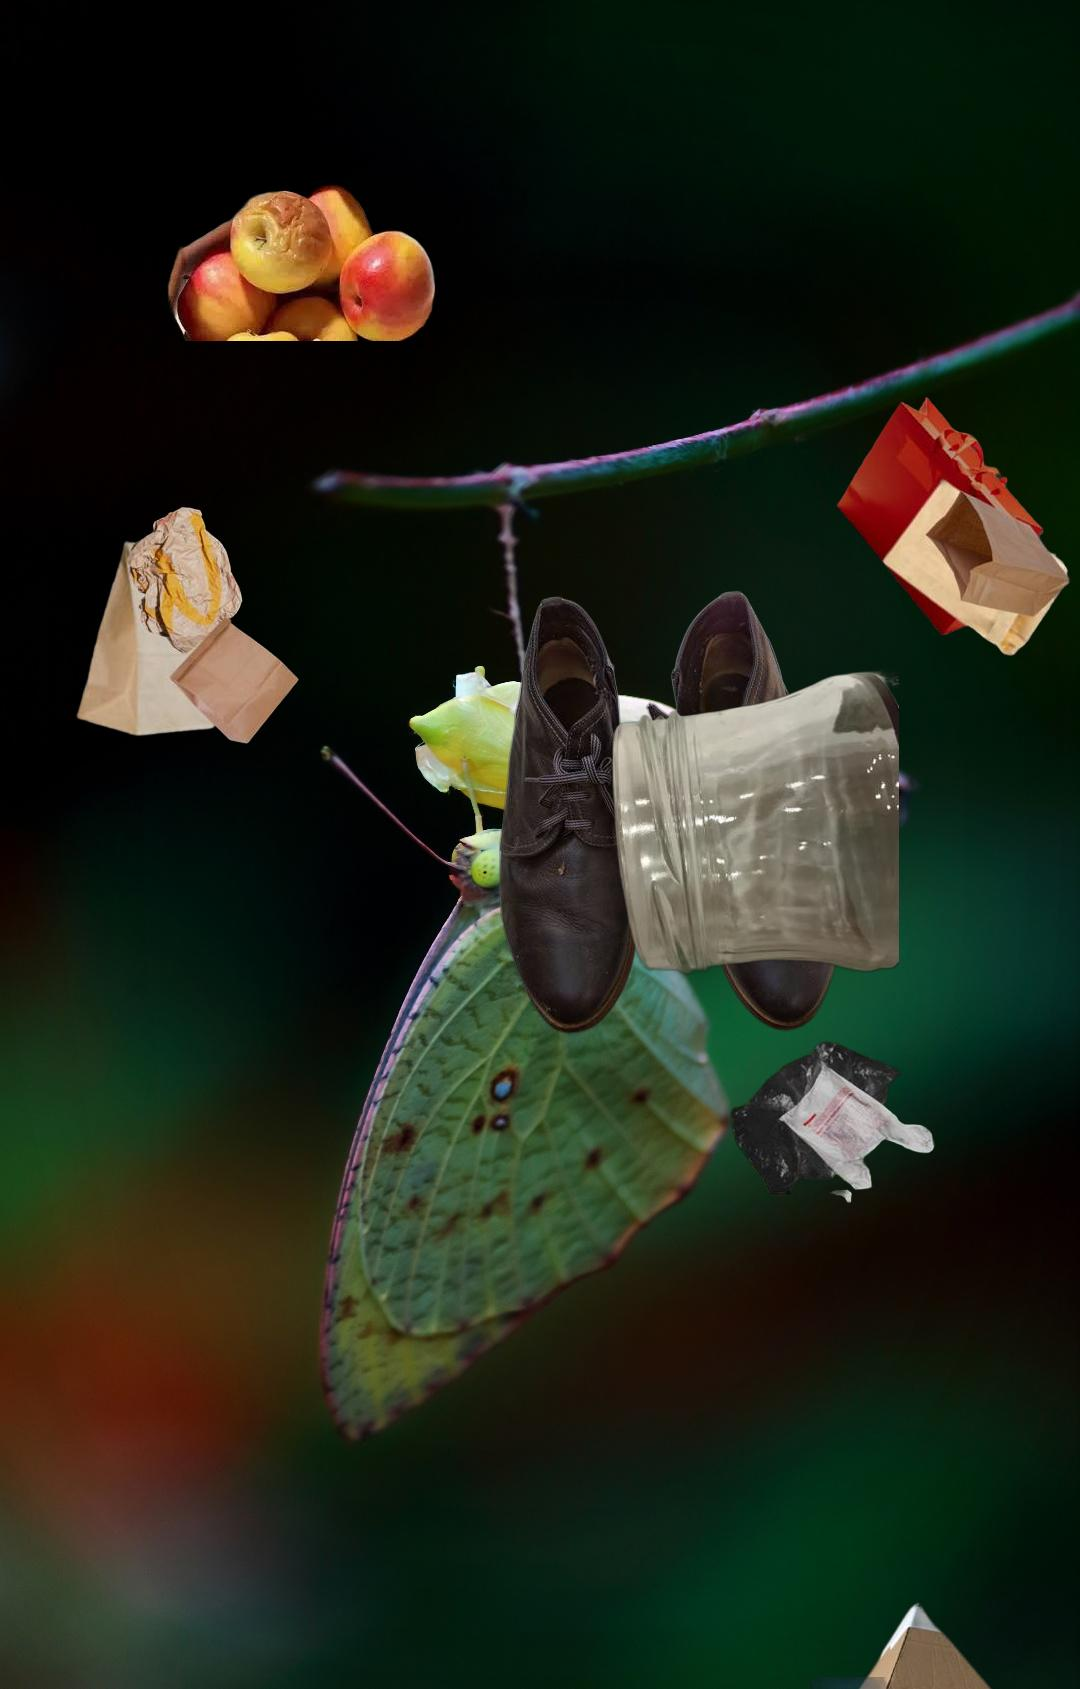biological: (158, 167, 442, 341)
glass: (607, 668, 899, 979)
paper-bag: (834, 393, 1073, 659), (73, 503, 302, 747)
plastic-bag: (727, 1040, 945, 1206)
plastic-bottles: (810, 1677, 1080, 1689)
shoes: (498, 587, 844, 1038)
trashbox-cardboard: (635, 1595, 1080, 1689)
